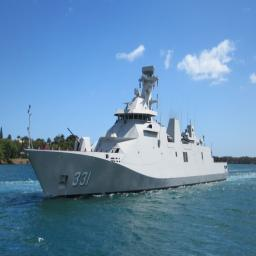Fragata: (22, 65, 230, 205)
